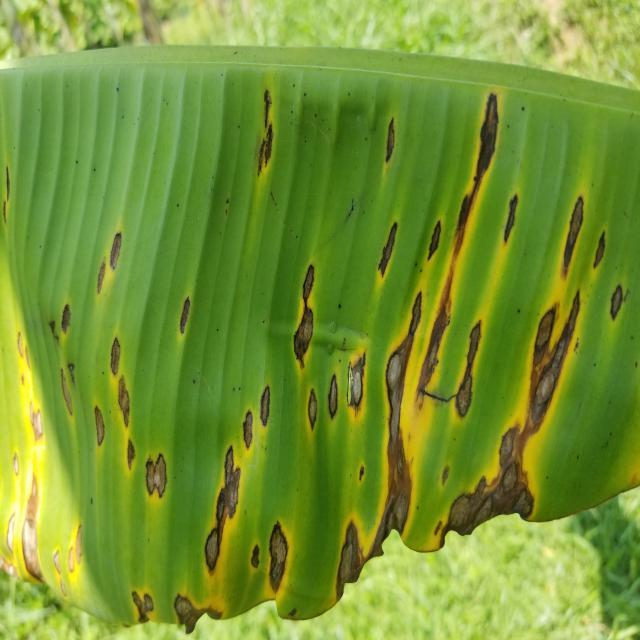Early_rust: (0, 46, 640, 606)
